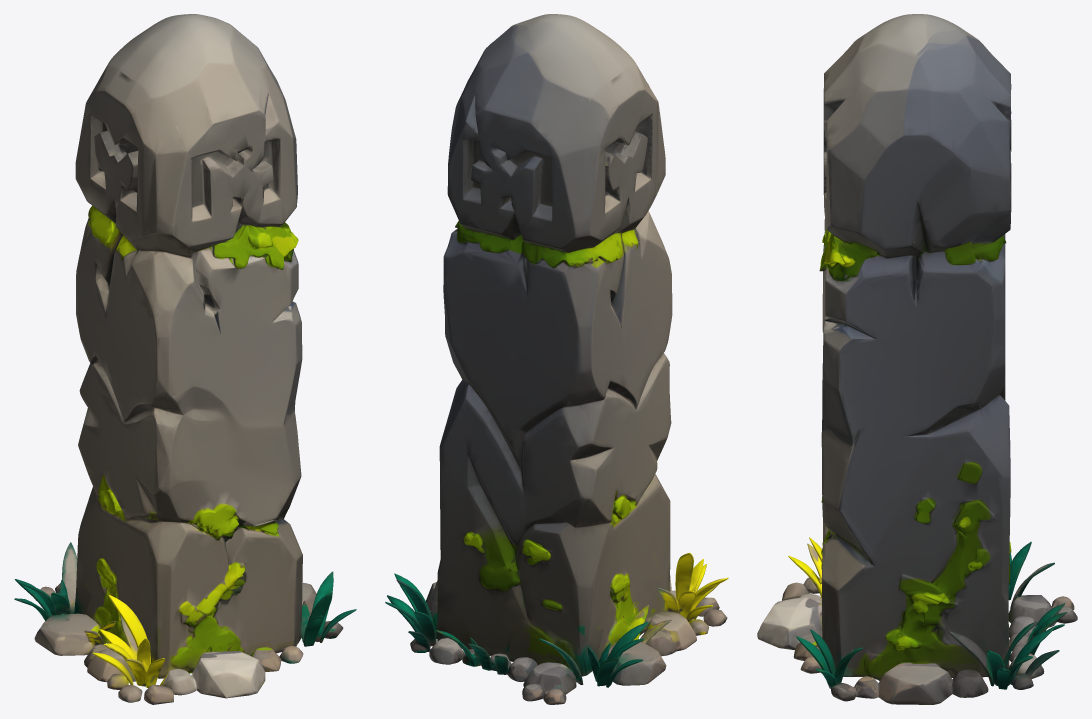
The model's file is milestone-a.glb.
3 renders of one model, left to right at view 1: azimuth 30°, elevation 25°; view 2: azimuth 150°, elevation 25°; view 3: azimuth 270°, elevation 25°, orthographic. The views are drawn at different scales.
Parts seen in each view (by area): view 1: node_0; view 2: node_0; view 3: node_0.
Part boxes in pixels (bbox=[...]): node_0: bbox=[14, 14, 356, 704]; node_0: bbox=[385, 14, 728, 704]; node_0: bbox=[757, 14, 1077, 704].
Size of the model in its own units: 0.4714 by 1.07 by 0.4959.
Materials: 1 (1 with a texture image).
